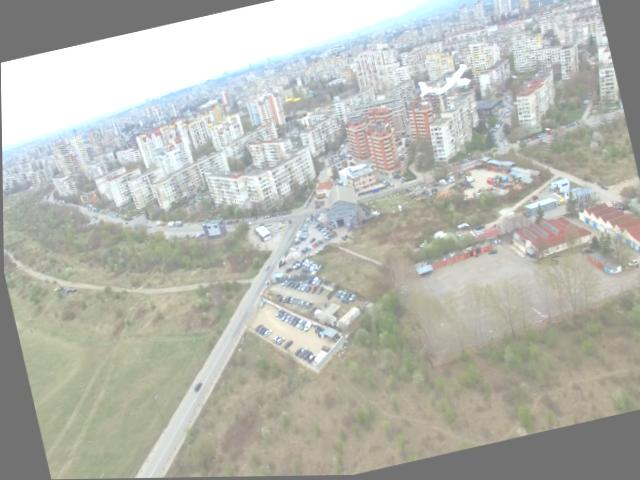plane: (415, 67, 472, 102)
